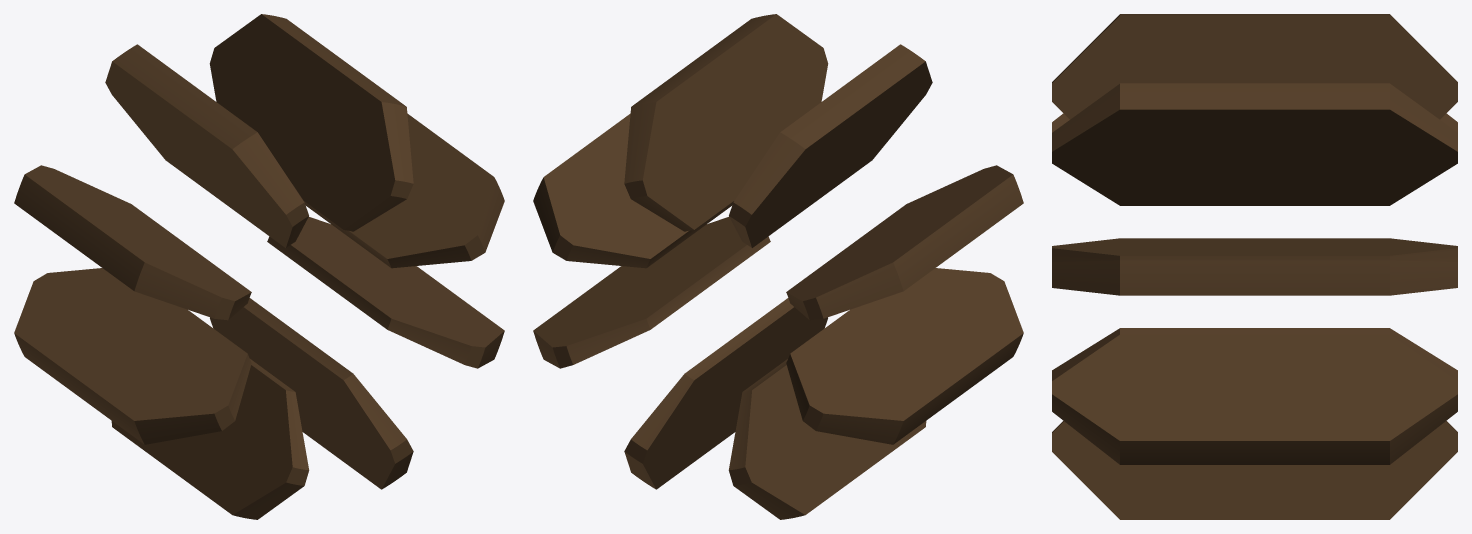
File: er5_confinement.obj
3 views of the same model, side by side, from view 1: azimuth 30°, elevation 25°; view 2: azimuth 150°, elevation 25°; view 3: azimuth 270°, elevation 25° (orthographic). The views are drawn at different scales.
Visible parts, largest first — view 1: er5_confinement; view 2: er5_confinement; view 3: er5_confinement.
Part boxes in pixels (box(x1,y1,x2,y2)): er5_confinement: box(14, 14, 504, 519); er5_confinement: box(533, 14, 1023, 519); er5_confinement: box(1052, 14, 1457, 519).
Bounding box in the file's own units: 4.31 × 4.31 × 3.64.
